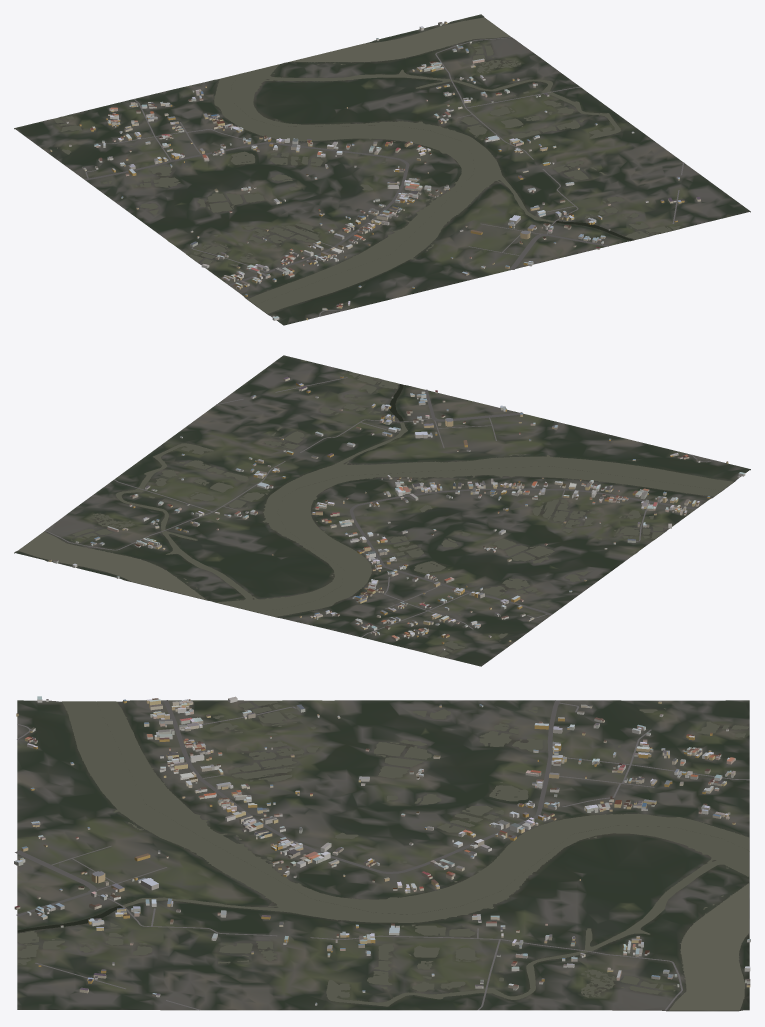
The picture shows the model from 3 angles, top to bottom: view 1: azimuth 30°, elevation 25°; view 2: azimuth 150°, elevation 25°; view 3: azimuth 270°, elevation 25°; orthographic projection. The views are drawn at different scales.
Parts seen in each view (by area): view 1: ground, water, buildings, roads; view 2: ground, water, buildings, roads; view 3: ground, water, buildings, roads.
Boxes of the visible parts, x1,y1,x2,y2 form: ground: (14,14,750,325); water: (54,17,680,313); buildings: (50,21,700,320); roads: (84,37,684,316); ground: (14,355,750,666); water: (18,373,733,656); buildings: (48,376,745,650); roads: (45,377,714,637); ground: (17,700,749,1011); water: (17,700,749,1010); buildings: (14,696,750,1005); roads: (15,700,749,1010).
Size of the model in its own units: 1408 by 19.89 by 1409.
